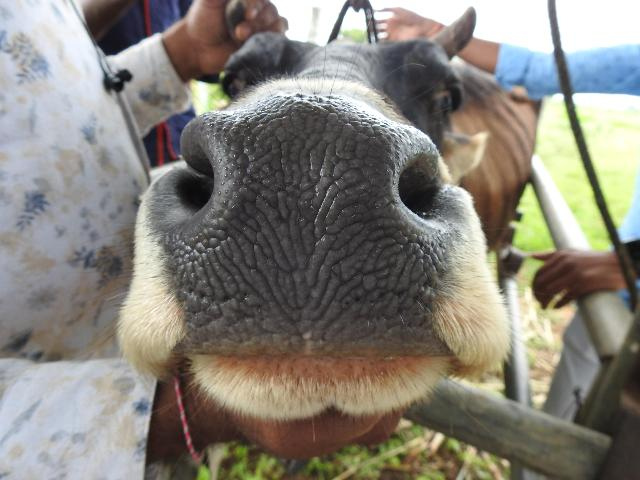Muzzle: (180, 110, 440, 350)
